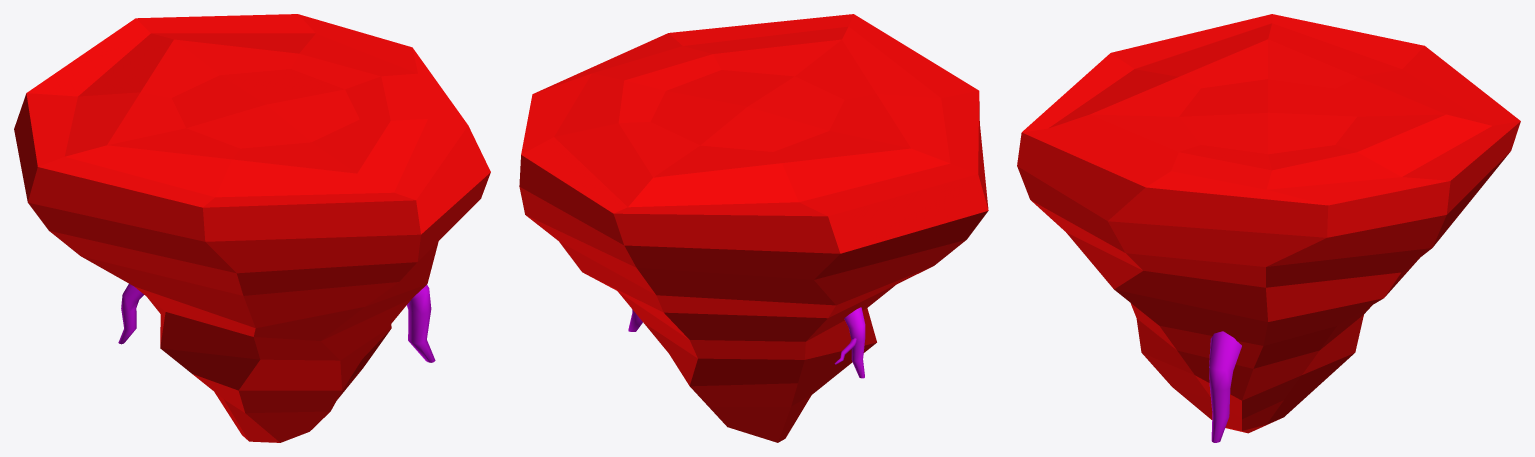
Rendered from island_roots_low.fbx.
3 views of the same model, side by side, from view 1: azimuth 30°, elevation 25°; view 2: azimuth 150°, elevation 25°; view 3: azimuth 270°, elevation 25° (orthographic). The views are drawn at different scales.
Parts seen in each view (by area): view 1: Island_low, Roots_low; view 2: Island_low, Roots_low; view 3: Island_low, Roots_low.
Part boxes in pixels (x1,y1,x2,y2): Island_low: (14, 14, 490, 442); Roots_low: (118, 284, 435, 362); Island_low: (519, 14, 988, 442); Roots_low: (628, 307, 865, 378); Island_low: (1017, 14, 1520, 433); Roots_low: (1209, 331, 1241, 442).
Size of the model in its own units: 61.44 by 46.02 by 66.67.
